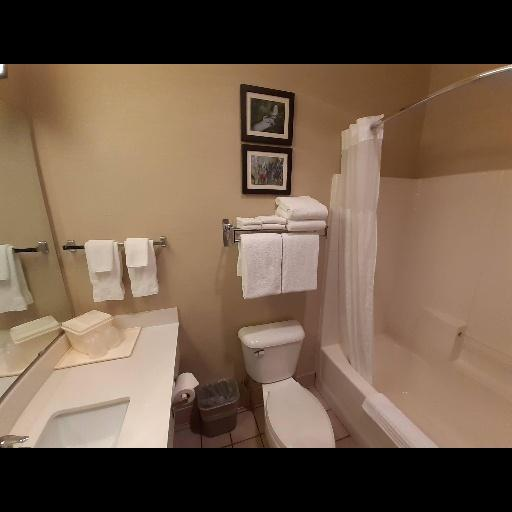clean_bathtub: (312, 300, 511, 450)
clean_sink: (0, 309, 178, 448)
clean_toilet: (238, 321, 338, 446)
folded_towel: (241, 235, 322, 302), (86, 237, 130, 305), (125, 236, 160, 300), (278, 191, 330, 232), (232, 211, 287, 231)
